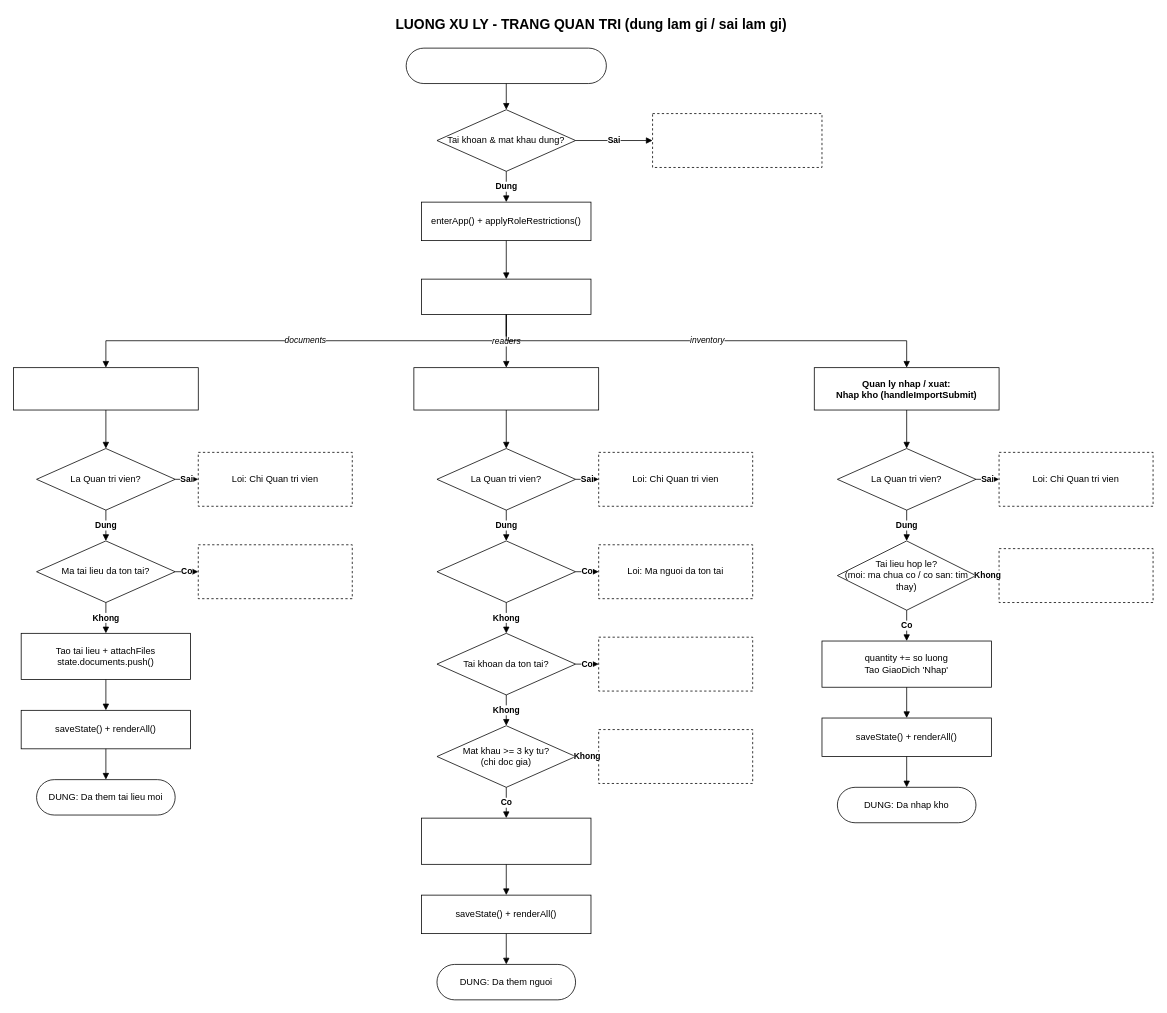
Some shapes in this 1167 by 1013 pixel diagram are drawn without their labels. The box of each missing label's shape, as (x1, y1, x2, y2) in pixels:
Dang nhap (admin / staff): (405, 47, 606, 84)
Loi: Ma tai lieu da ton tai: (198, 544, 352, 599)
Loi: Ma trung hoac khong tim thay tai lieu: (998, 548, 1153, 603)
Loi: Mat khau < 3 ky tu: (598, 729, 753, 783)
Loi: Tai khoan da ton tai: (598, 636, 753, 691)
Ma nguoi da ton tai? (personIdExists): (436, 540, 576, 603)
push readers/staffs/admins + tao account (state.accounts): (421, 817, 591, 864)
Quan ly con nguoi: Them doc gia / nhan vien / quan tri: (413, 367, 599, 410)
Quan ly tai lieu: Them tai lieu (handleDocumentSubmit): (13, 367, 198, 410)
SAI: Bao loi, xoa mat khau: (652, 113, 822, 167)
TRANG QUAN TRI: (421, 278, 591, 315)
